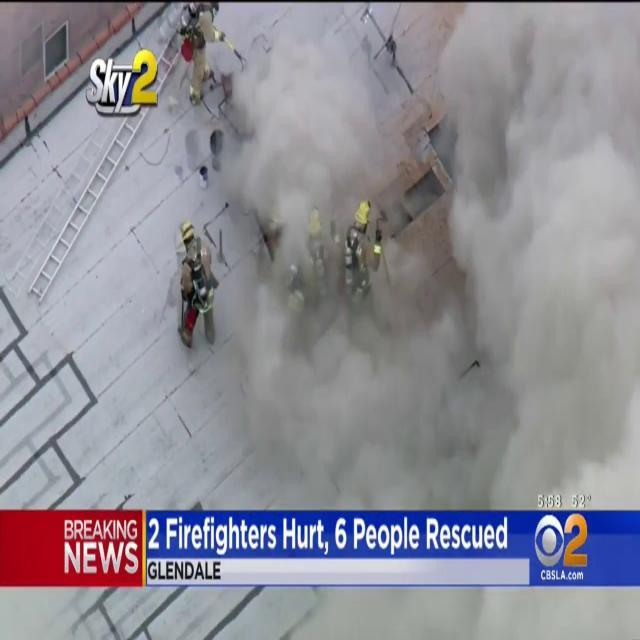Smoke: (181, 2, 640, 502)
